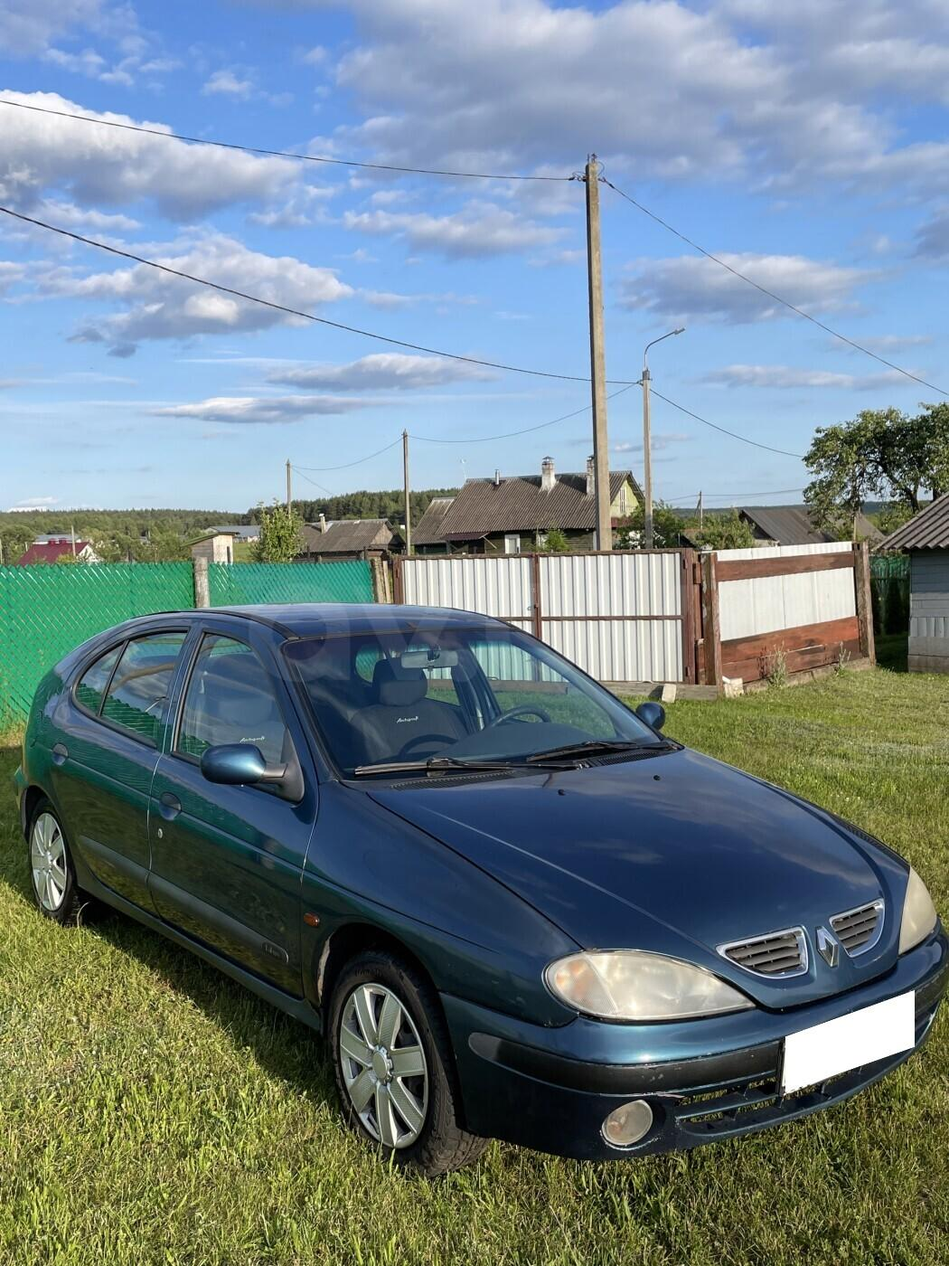Megane_1999-2003: (23, 606, 949, 1167)
